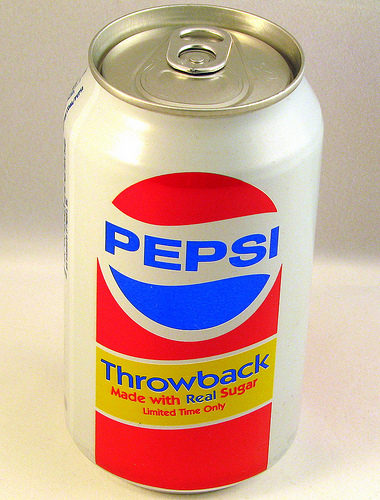pepsi: (102, 167, 278, 329), (102, 173, 278, 329)
